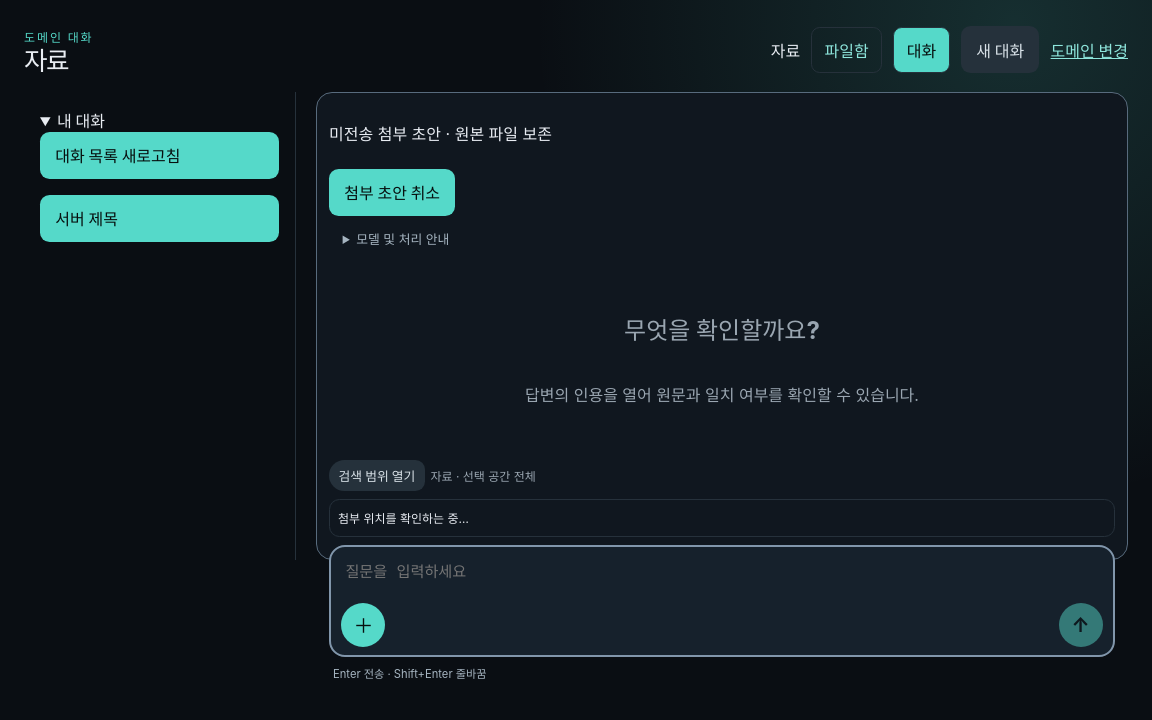
it: F5 attributes deferred rejection abandon failure only to its initiating empty screen (replacement selected=true)
Expected: the text "미전송 첨부 초안 · 원본 파일 보존" is shown, [329, 124, 552, 144]
Type "첫 질문" into the text box labelled "질문" at (722,575), box [341, 555, 1103, 595]
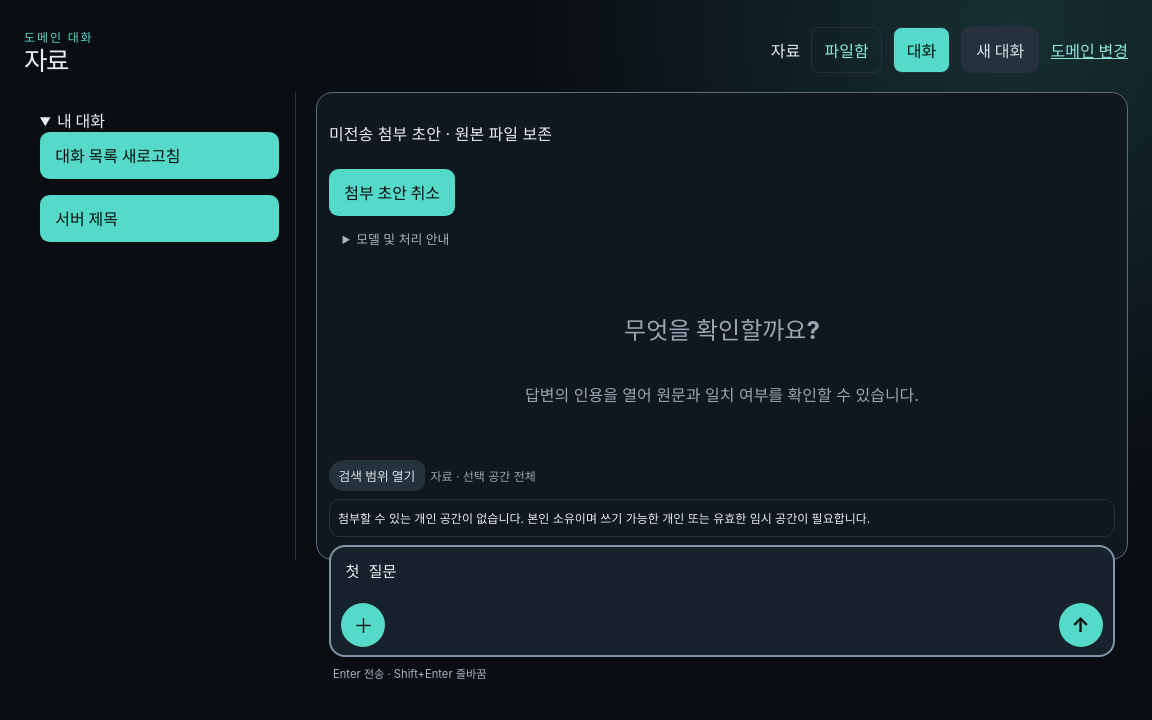
Click the button named "질문 보내기" at (1081,625), box [1059, 603, 1103, 647]
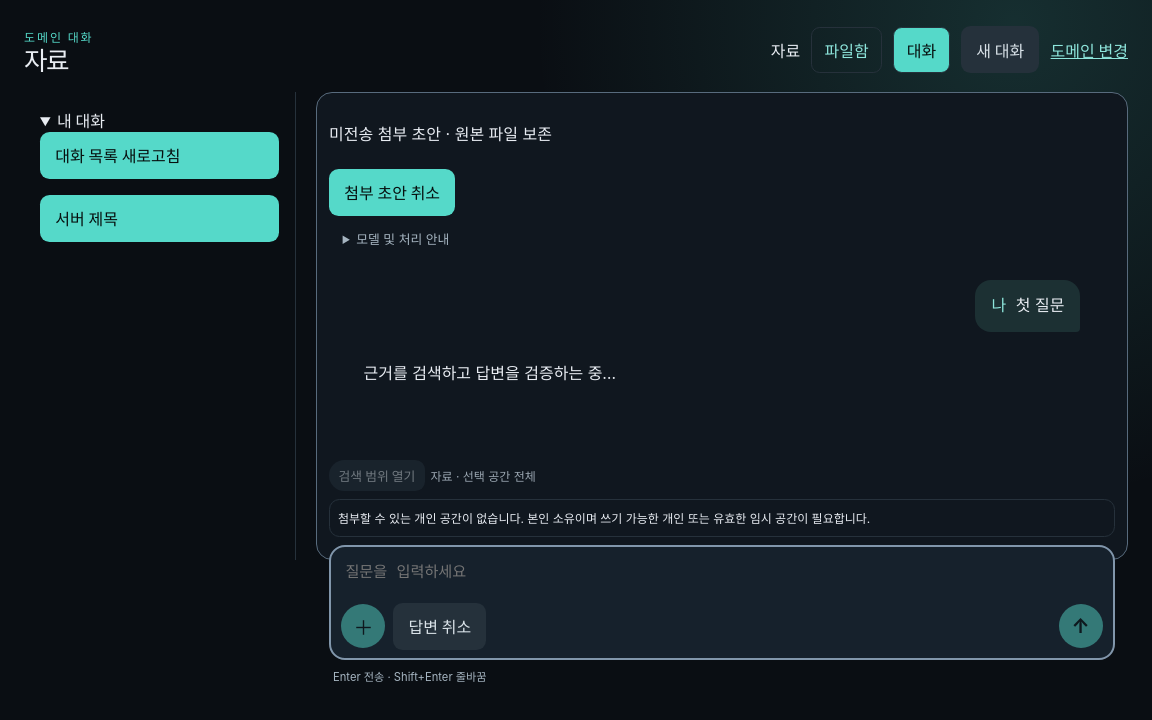
Click the button "새 대화" at (1000,50), box [961, 26, 1039, 73]
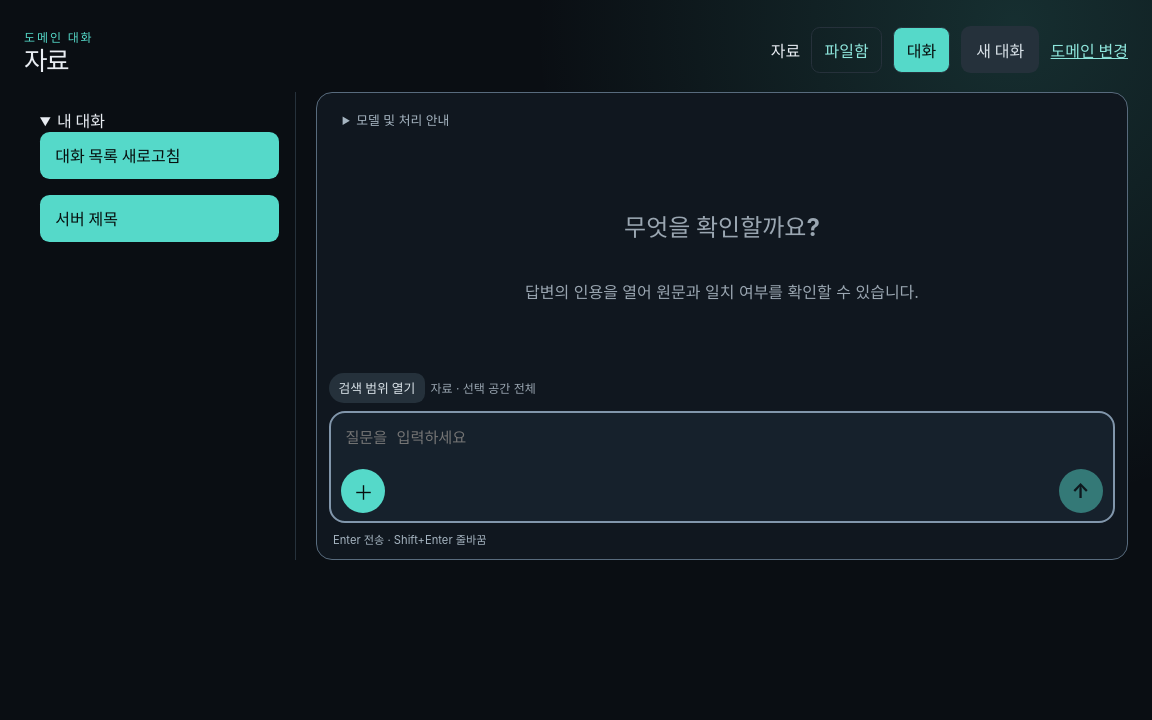
Click the button "서버 제목" at (160,218), box [40, 195, 279, 242]
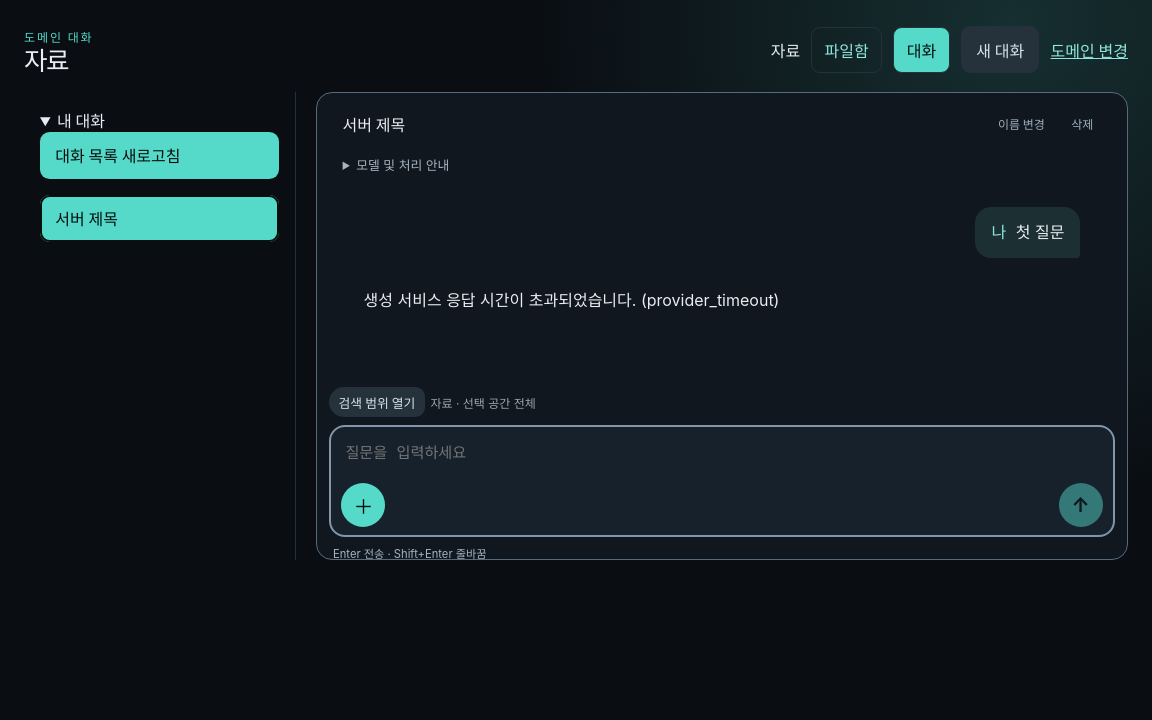
Expected: the heading "서버 제목" is shown, [343, 115, 405, 135]
